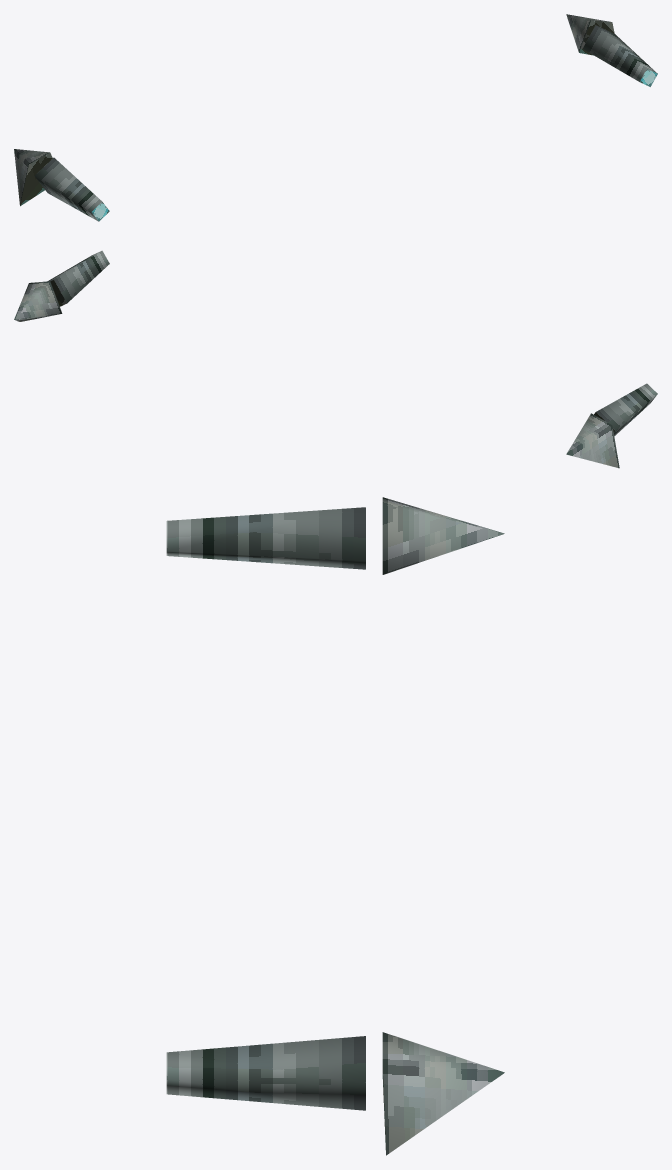
File: black_sun_fighter_medium_weapon2_s02_l3.fbx
3 views of the same model, one above another, from view 1: azimuth 30°, elevation 25°; view 2: azimuth 150°, elevation 25°; view 3: azimuth 270°, elevation 25° (orthographic). The views are drawn at different scales.
Visible parts, largest first — view 1: mesh_node; view 2: mesh_node; view 3: mesh_node.
Boxes of the visible parts, left/top/right/bottom form: mesh_node: left=14, top=14, right=657, bottom=221; mesh_node: left=14, top=250, right=657, bottom=468; mesh_node: left=166, top=497, right=504, bottom=1155.
Size of the model in its own units: 7.69 by 0.5827 by 1.88.
1 material, 1 textured.
